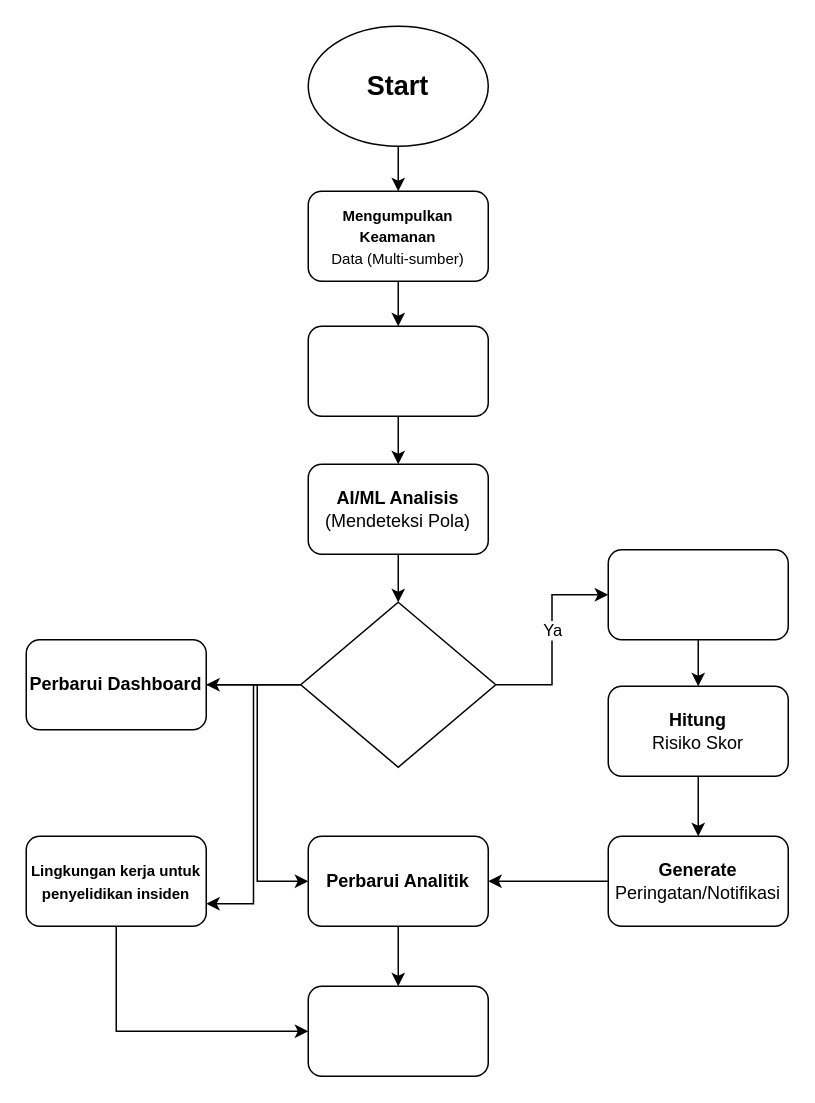
Some shapes in this 815 by 1103 pixel diagram are drawn without their labels. Here are the shapes that lost their labels. From the top down, the centre of each, then its label:
At point (397, 370): "Proses & Normalisasi (Aliran Data)".
At point (697, 594): "Perkuat Dengan Intelijen Ancaman".
At point (397, 684): "Ancaman atau Anomali?".
At point (397, 1030): "Generate Laporan".
